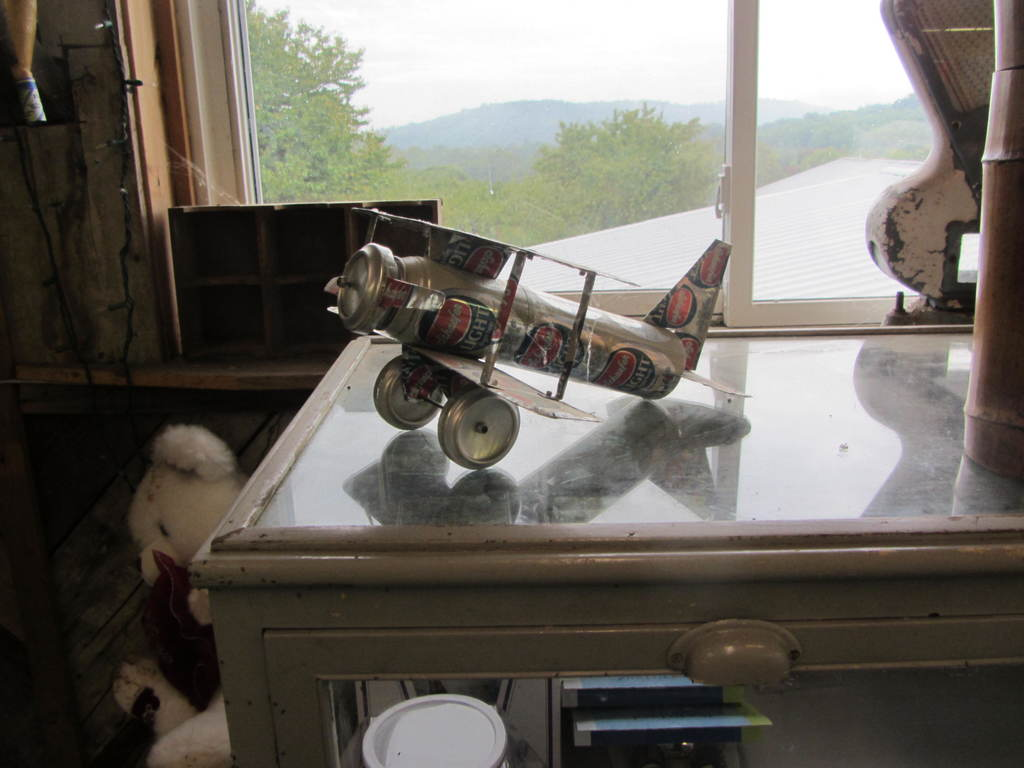Animal: (123, 422, 332, 766)
